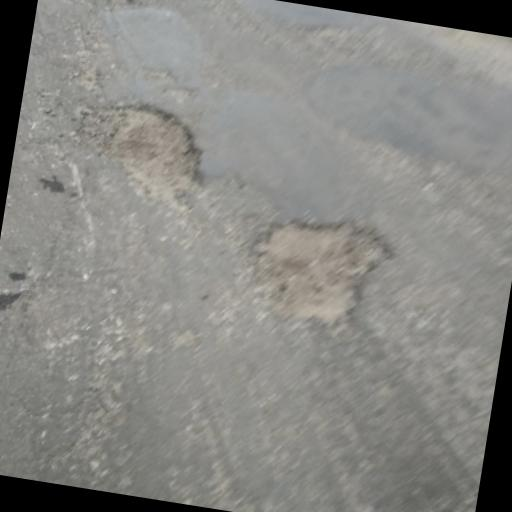pothole: (234, 198, 406, 340), (77, 92, 218, 218), (50, 0, 163, 15)
